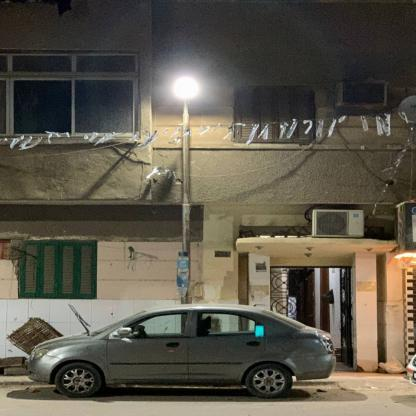light_pole: (171, 75, 201, 338)
